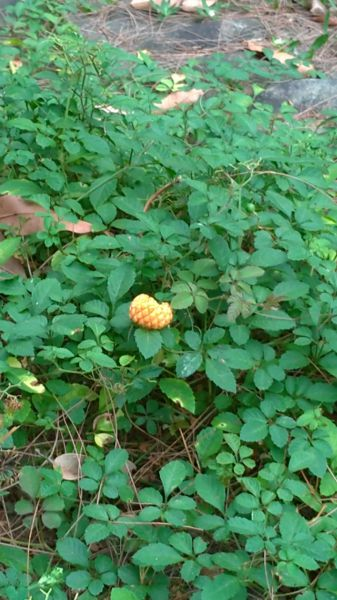eggs: (128, 291, 175, 334)
